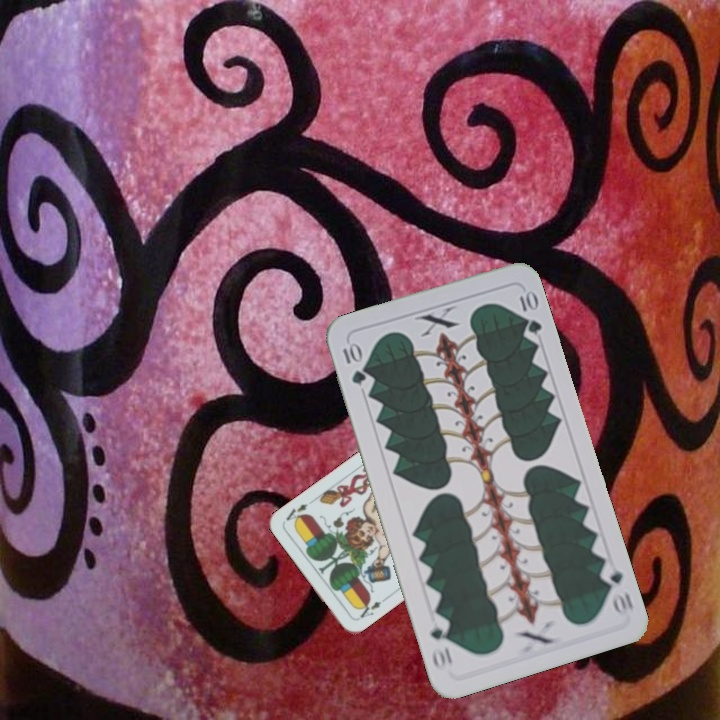EA: (353, 594, 389, 623)
G10: (596, 559, 636, 618), (338, 338, 369, 388)
